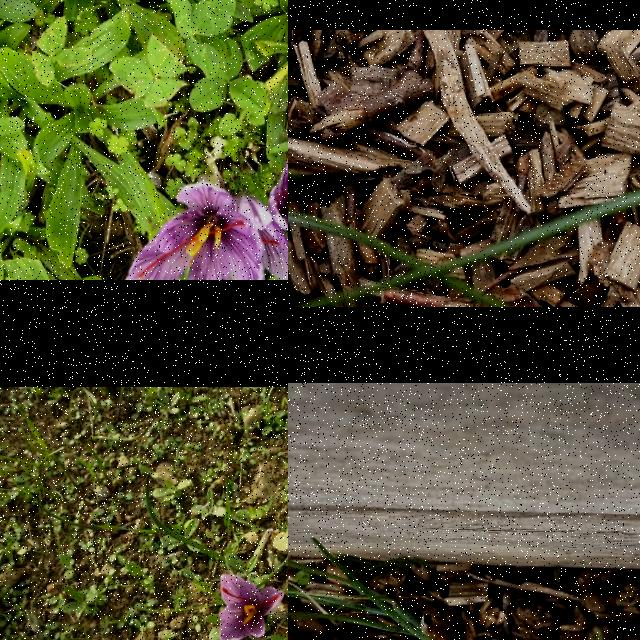flower: (125, 182, 288, 280), (219, 574, 285, 640), (270, 134, 288, 249)
